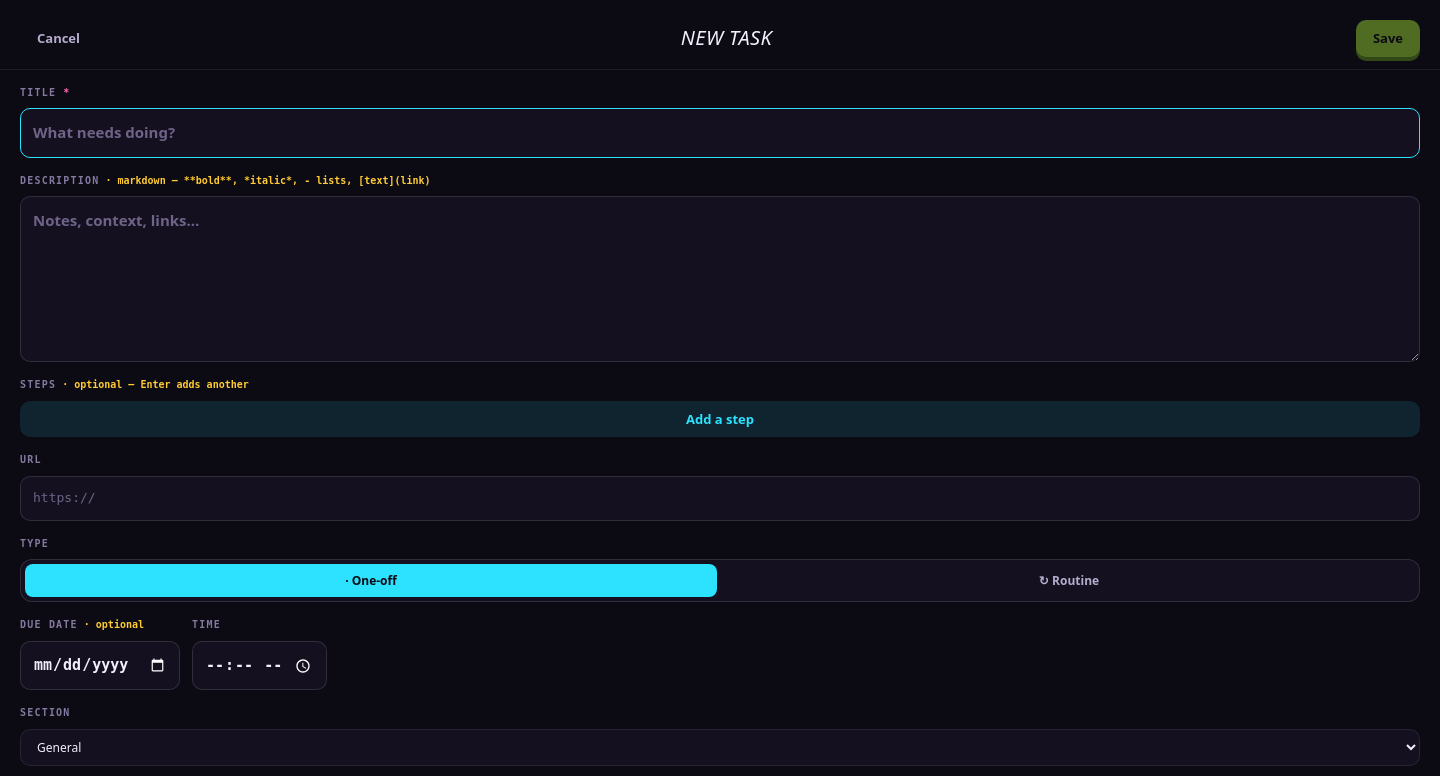
Test: the type switch changes which schedule is asked for › shows the due date for a one-off and the weekday picker for a routine
The width and height of the screenshot is (1440, 776).
Check: the date field labelled "Due date · optional" is shown, box [20,641,180,690]
Click the tab "↻ Routine" at (1069,581), box [723,564,1415,597]
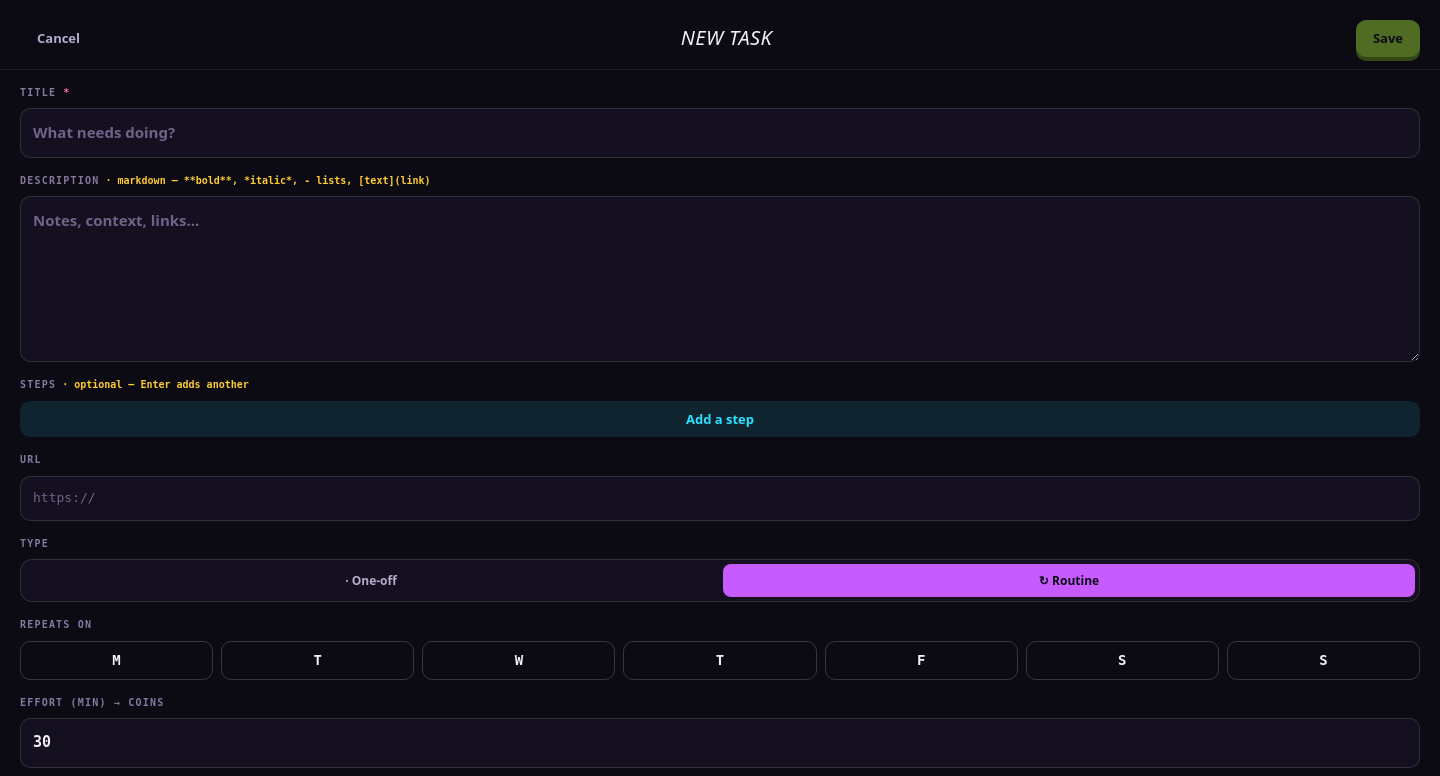
Check: the button named "Mon" is shown, box [20,641,213,680]
Check: the label labelled "Due date" is gone
